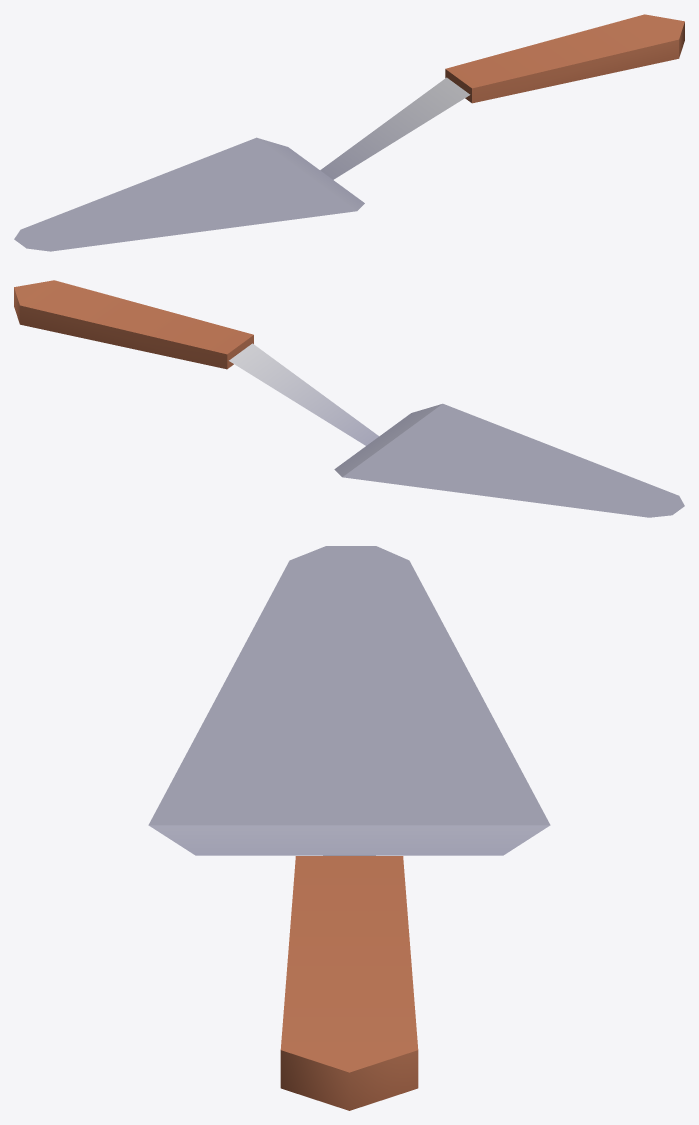
Rendered from cake-slicer.glb.
The picture shows the model from 3 angles, top to bottom: view 1: azimuth 30°, elevation 25°; view 2: azimuth 150°, elevation 25°; view 3: azimuth 270°, elevation 25°; orthographic projection. The views are drawn at different scales.
Visible parts, largest first — view 1: cake-slicer; view 2: cake-slicer; view 3: cake-slicer.
Part boxes in pixels (box(x1,y1,x2,y2)): cake-slicer: box(14, 14, 684, 251); cake-slicer: box(14, 280, 684, 517); cake-slicer: box(148, 546, 550, 1110).
Bounding box in the file's own units: 0.7246 × 0.0692 × 0.19.
